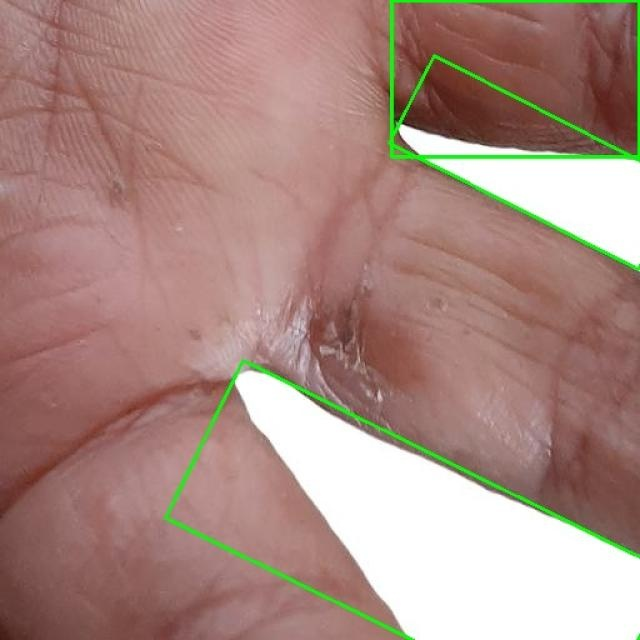Scabies: (166, 360, 640, 640), (389, 56, 640, 270), (391, 0, 639, 156)
